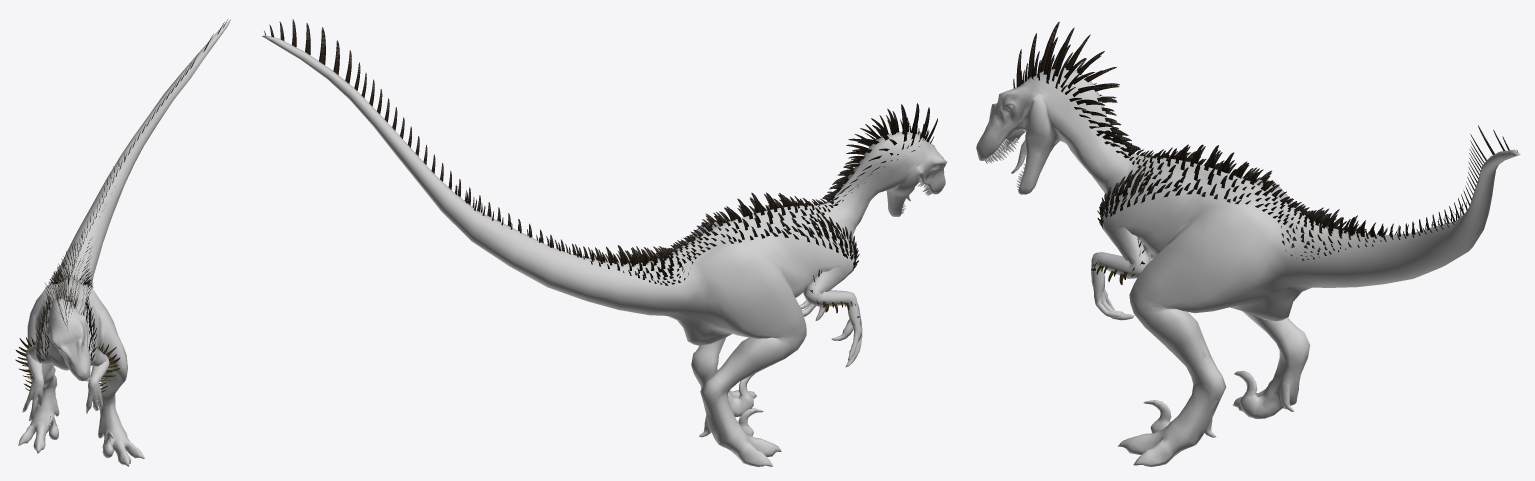
File: Raptor.fbx
3 views of the same model, side by side, from view 1: azimuth 30°, elevation 25°; view 2: azimuth 150°, elevation 25°; view 3: azimuth 270°, elevation 25° (orthographic). The views are drawn at different scales.
Visible parts, largest first — view 1: Model001_40_Novaraptor2_1_0_0, Model001_40_Novaraptor3_1_0_0, Model001_6_RaptorFullQuills_1_0_0; view 2: Model001_40_Novaraptor2_1_0_0, Model001_40_Novaraptor3_1_0_0, Model001_6_RaptorFullQuills_1_0_0; view 3: Model001_40_Novaraptor3_1_0_0, Model001_40_Novaraptor2_1_0_0, Model001_6_RaptorFullQuills_1_0_0, Model001_40_Novaraptor1_1_0_0.
Part boxes in pixels (x1=…): Model001_40_Novaraptor2_1_0_0: x1=19, y1=20, x2=230, y2=453; Model001_40_Novaraptor3_1_0_0: x1=18, y1=273, x2=145, y2=466; Model001_6_RaptorFullQuills_1_0_0: x1=15, y1=19, x2=227, y2=392; Model001_40_Novaraptor2_1_0_0: x1=262, y1=35, x2=947, y2=456; Model001_40_Novaraptor3_1_0_0: x1=650, y1=131, x2=934, y2=466; Model001_6_RaptorFullQuills_1_0_0: x1=264, y1=19, x2=937, y2=317; Model001_40_Novaraptor3_1_0_0: x1=976, y1=67, x2=1328, y2=466; Model001_40_Novaraptor2_1_0_0: x1=981, y1=70, x2=1520, y2=439; Model001_6_RaptorFullQuills_1_0_0: x1=1013, y1=21, x2=1517, y2=284; Model001_40_Novaraptor1_1_0_0: x1=1003, y1=87, x2=1269, y2=386.
Size of the model in its own units: 3.45 by 3.06 by 3.06.
